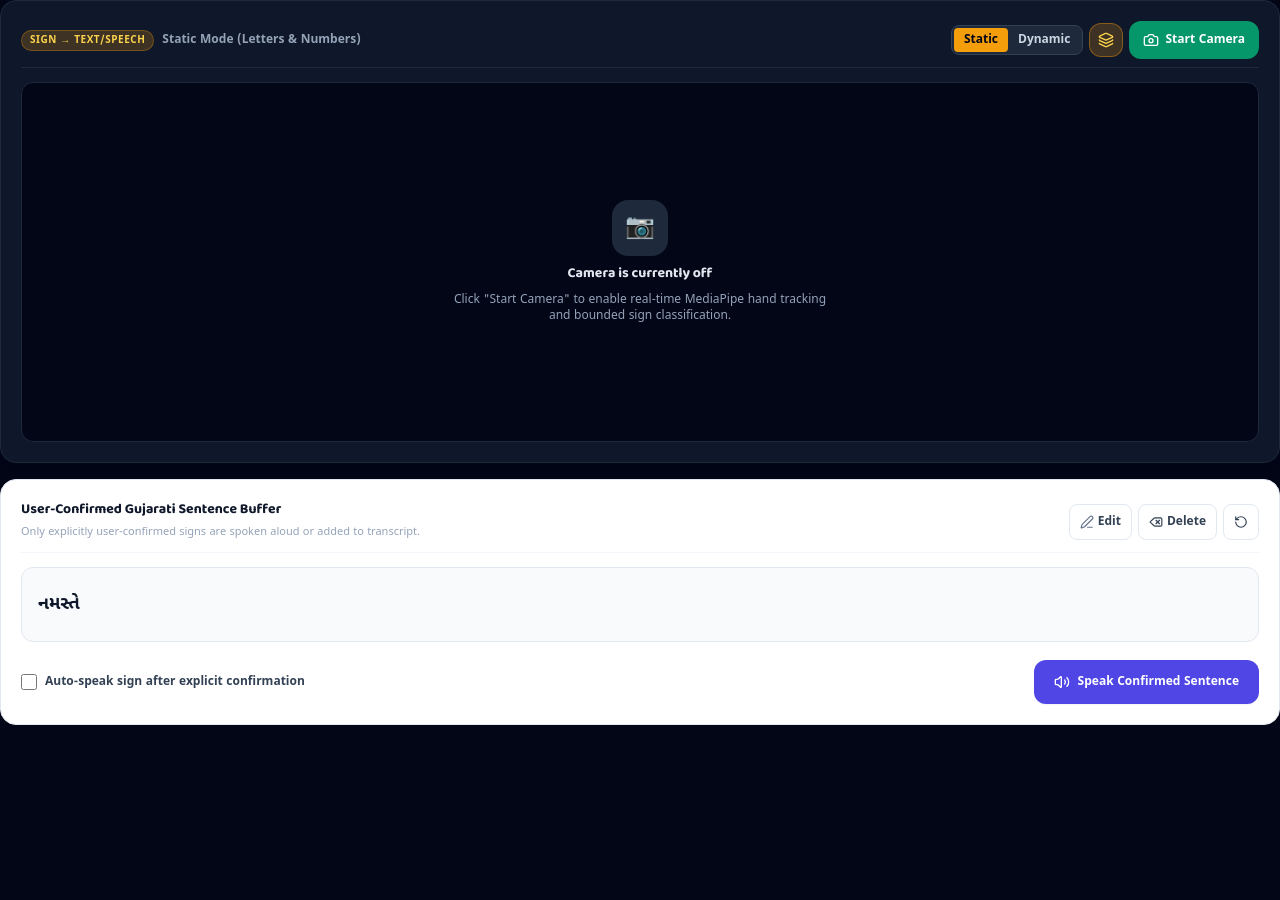
Test: SignRecognition component › allows manual editing and deleting words in confirmed buffer
The image size is (1280, 900).
Check: the text "નમસ્તે" is shown, box 38,590 -> 80,618
Delete word
Click the button with aria-label "Delete last word".
click(1178, 522)  # box 1138,504 -> 1217,540
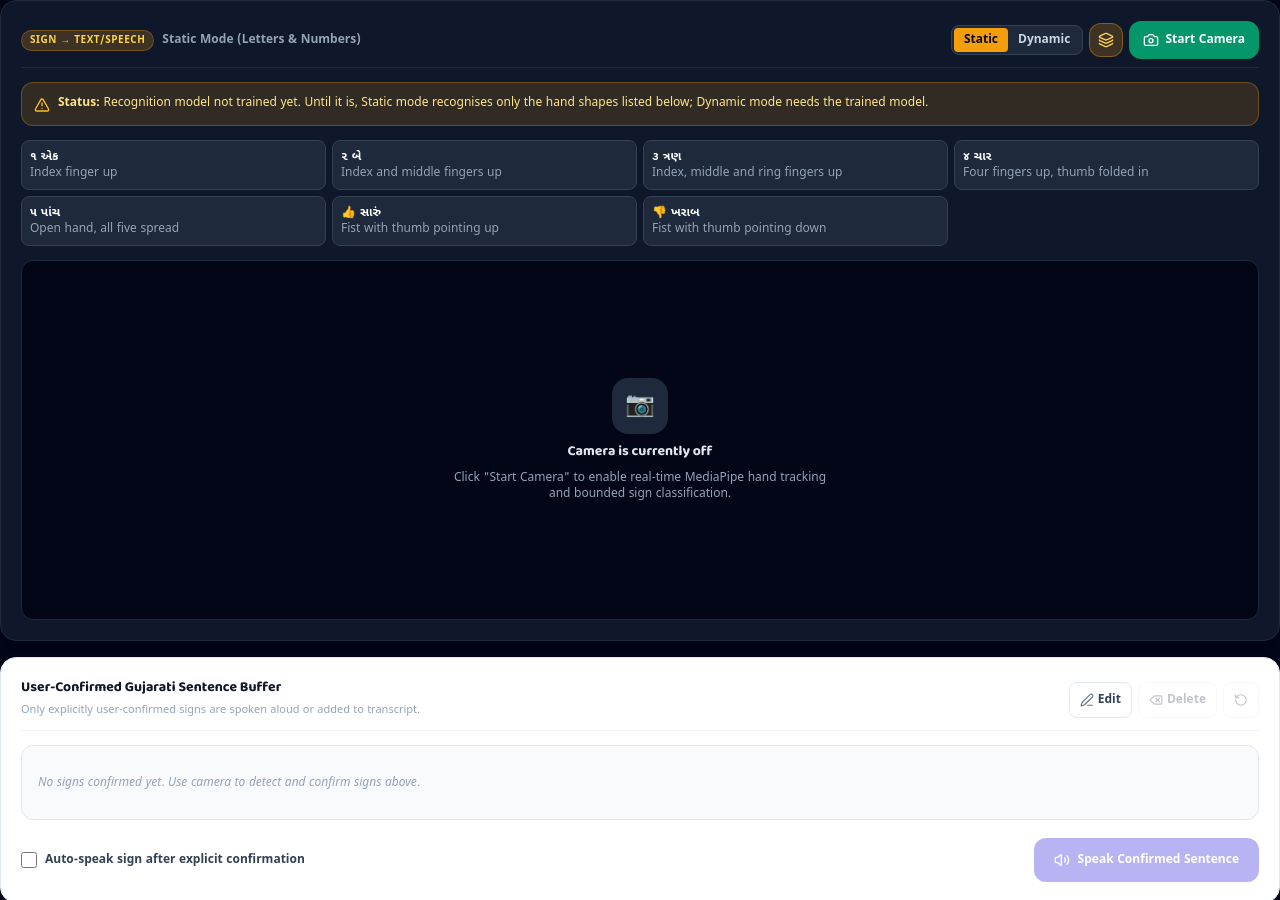
Check: the text "નમસ્તે" is gone
Check: the text "No signs confirmed yet" is shown, box 38,774 -> 420,790
